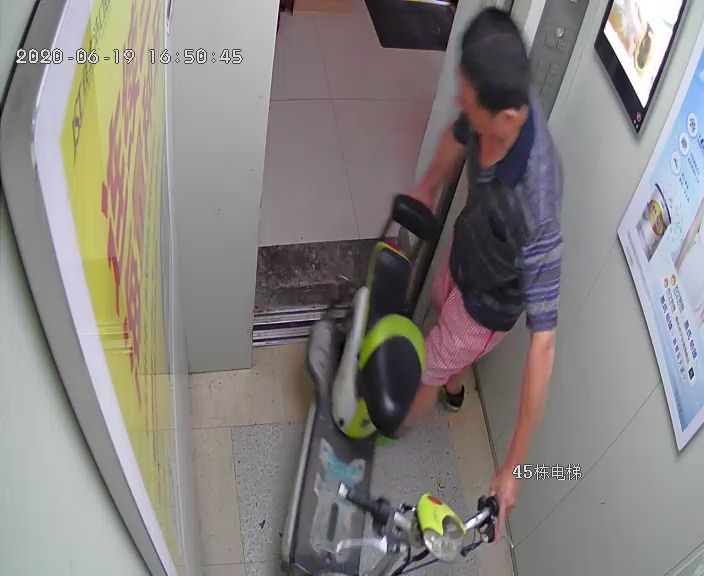Electric-bicycle: (290, 197, 516, 576)
